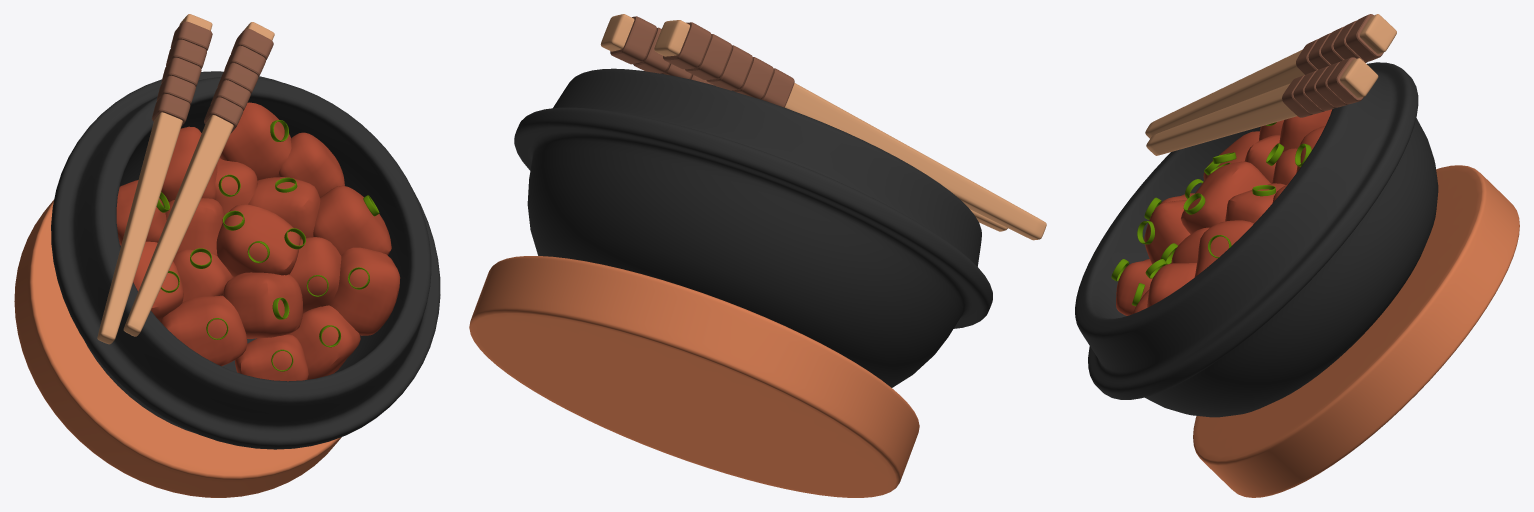
File: dakgangjeong.glb
3 renders of one model, left to right at view 1: azimuth 30°, elevation 25°; view 2: azimuth 150°, elevation 25°; view 3: azimuth 270°, elevation 25°, orthographic. The views are drawn at different scales.
Parts seen in each view (by area): view 1: Sphere.019, Cylinder.186, Cube.130, Cube.128, Cube.132, Cube.147, Cube.137, Cube.139, Cube.135, Cube.131, Cube.149, Cube.129 (+11 smaller); view 2: Sphere.019, Cylinder.186, Cube.130, Cube.131, Cube.129, Cube.128; view 3: Sphere.019, Cylinder.186, Cube.128, Cube.130, Cube.132, Cube.129, Cube.131, Cube.137, Cube.135, Cube.147, Cube.140, Cube.133 (+5 smaller).
Part boxes in pixels (x1,y1,x2,y2): Sphere.019: (51,71,440,449); Cylinder.186: (14,199,341,497); Cube.130: (97,14,212,344); Cube.128: (123,22,274,336); Cube.132: (216,204,300,277); Cube.147: (329,247,400,335); Cube.137: (223,272,302,338); Cube.139: (160,295,247,366); Cube.135: (313,185,391,255); Cube.131: (152,21,212,126); Cube.149: (220,102,291,180); Cube.129: (204,28,273,132); Sphere.019: (514,68,992,387); Cylinder.186: (469,256,919,497); Cube.130: (654,20,1046,240); Cube.131: (663,22,794,107); Cube.129: (610,16,713,85); Cube.128: (600,14,1007,231); Sphere.019: (1075,62,1438,417); Cylinder.186: (1193,165,1519,497); Cube.128: (1146,58,1378,155); Cube.130: (1145,14,1396,138); Cube.132: (1181,161,1270,233); Cube.129: (1282,57,1363,117); Cube.131: (1296,14,1383,74); Cube.137: (1144,200,1190,264); Cube.135: (1194,220,1253,277); Cube.147: (1147,262,1196,307); Cube.140: (1116,259,1152,315); Cube.133: (1225,183,1285,223).
Size of the model in its own units: 2.62 by 2.9 by 2.55.
